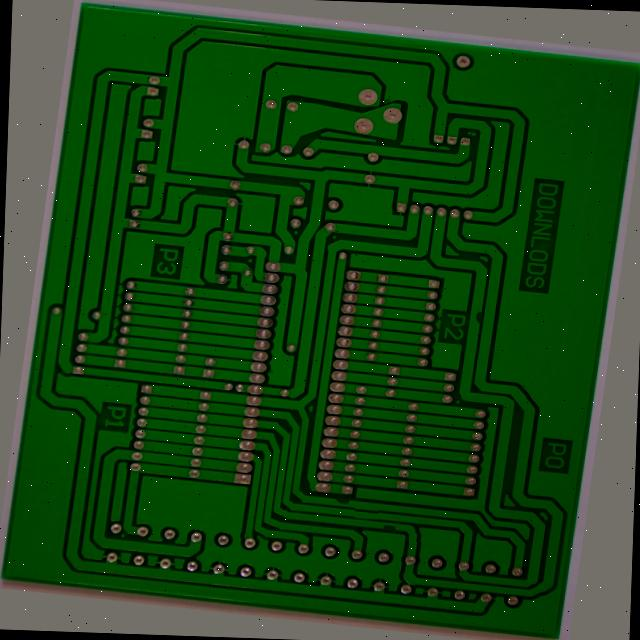mouse_bite: (353, 503, 377, 519), (483, 295, 502, 314), (408, 530, 430, 542)
